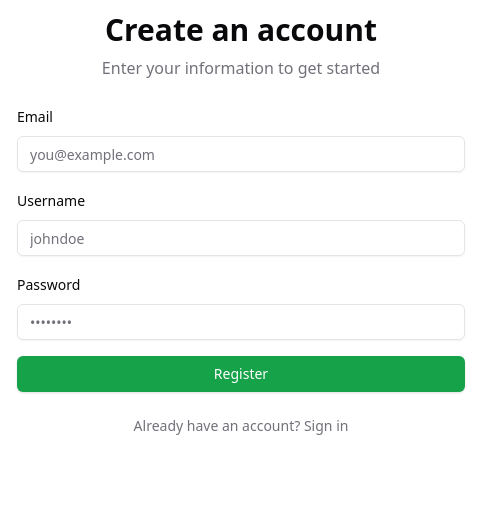
Test case: RegisterForm › displays error message when email already exists
In the field labelled "Email": (241, 154) [17,136,465,172], type "existing@example.com"
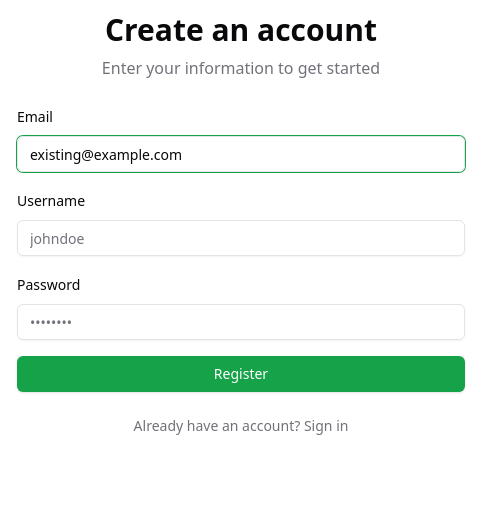
In the field labelled "Username": (241, 238) [17,220,465,256], type "testuser"
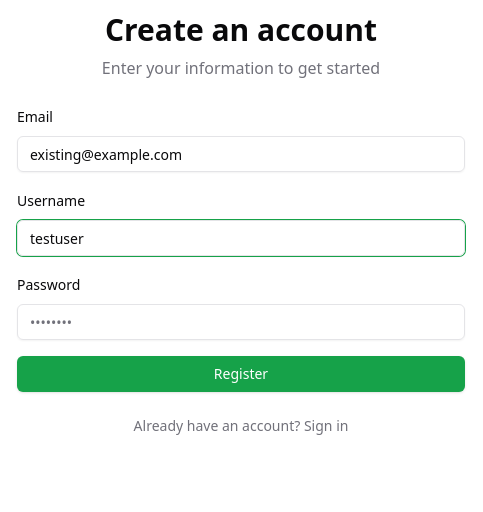
In the password field labelled "Password": (241, 322) [17,304,465,340], type "testpass123"
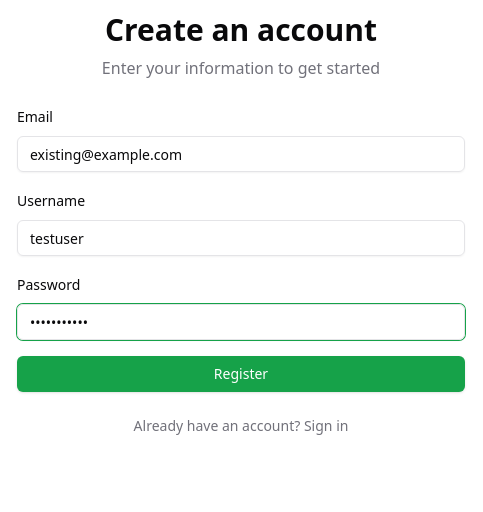
Click the button "Register": (241, 374) [17,356,465,392]
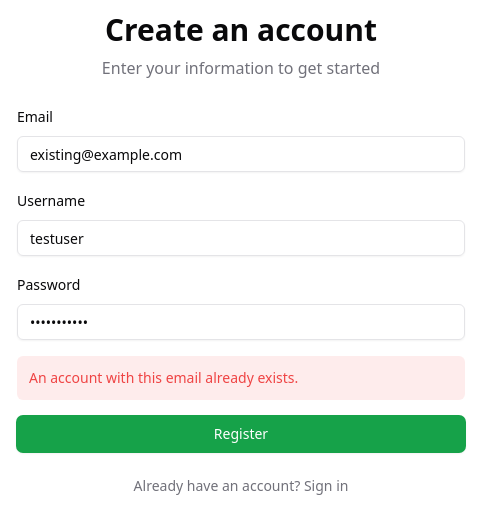
Result: the text "An account with this email already exists." is shown at [17,356,465,400]
